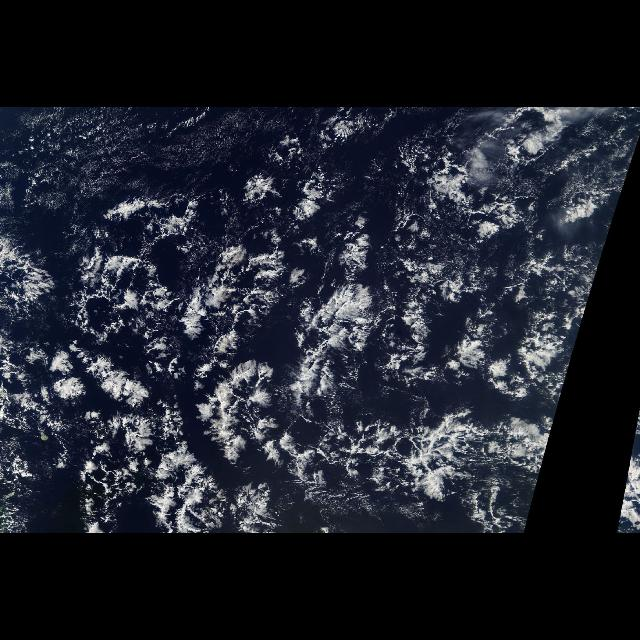Gravel: (13, 218, 591, 504)
